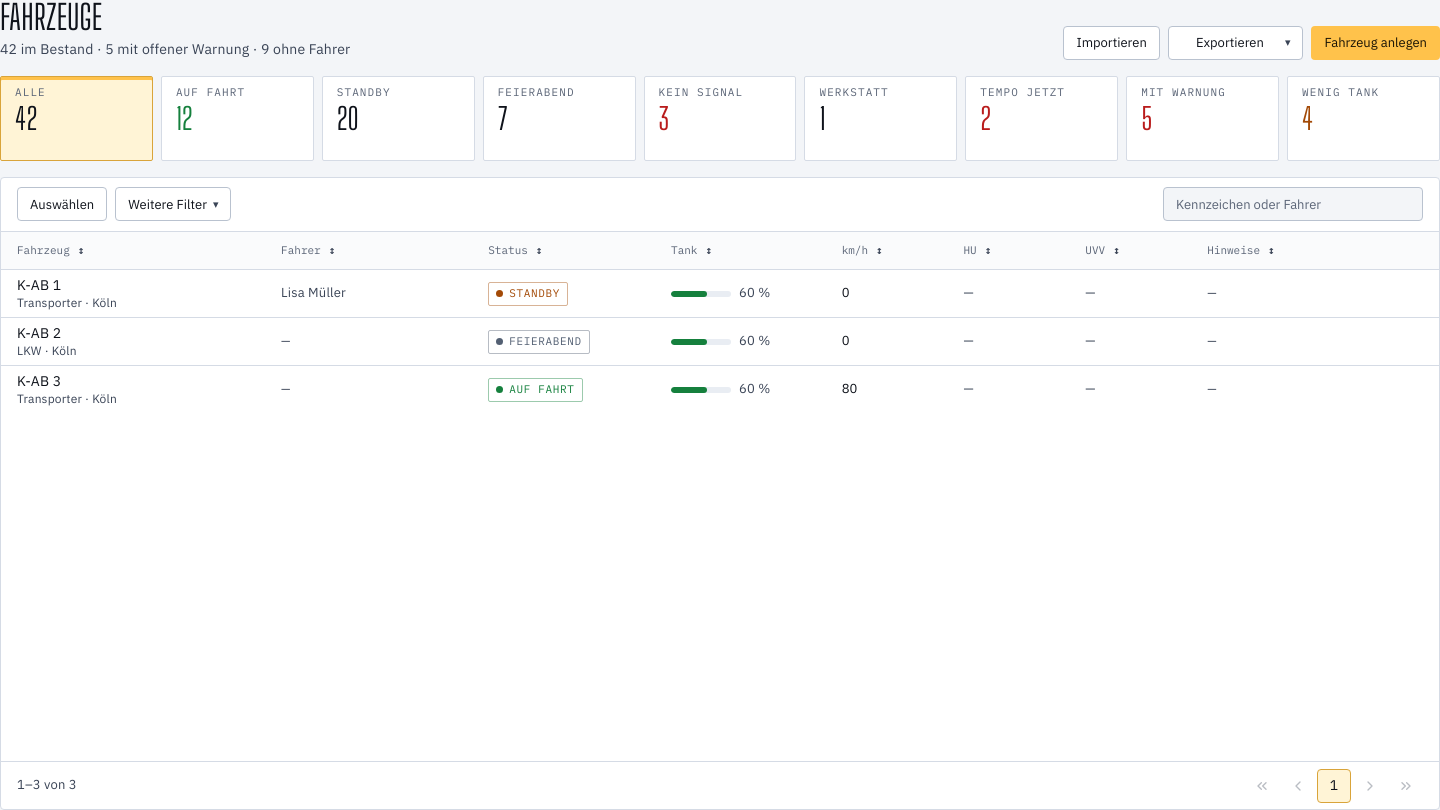
Fahrzeuge list page › confirms a created vehicle with a notice
Check: the text "K-AB 1" is shown, box [17,276,61,294]
Click the button "Fahrzeug anlegen" at (1376, 43), box [1312,26,1439,60]
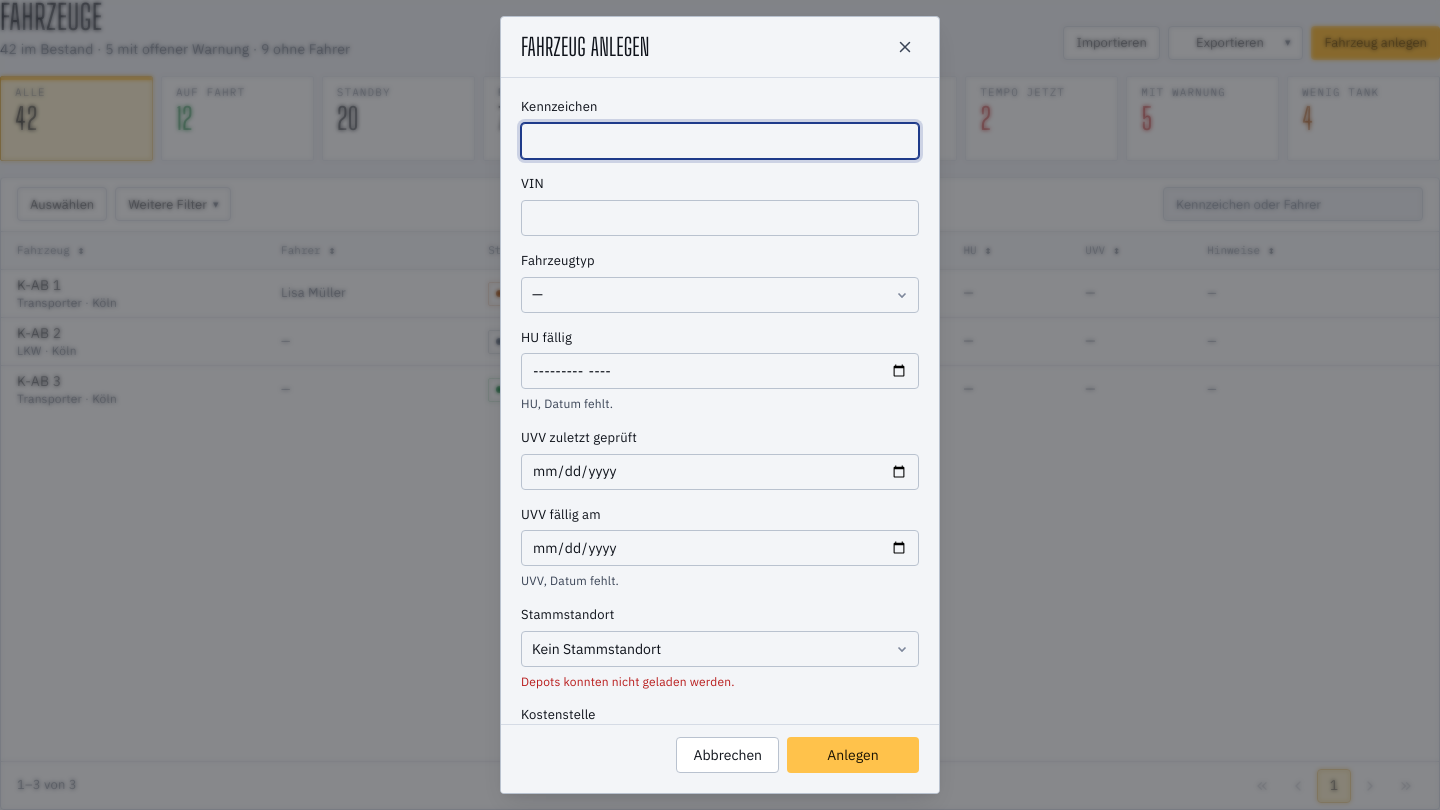
Type "QA-QA 1" into the field labelled "Kennzeichen" at (720, 141), box [521,123,919,159]
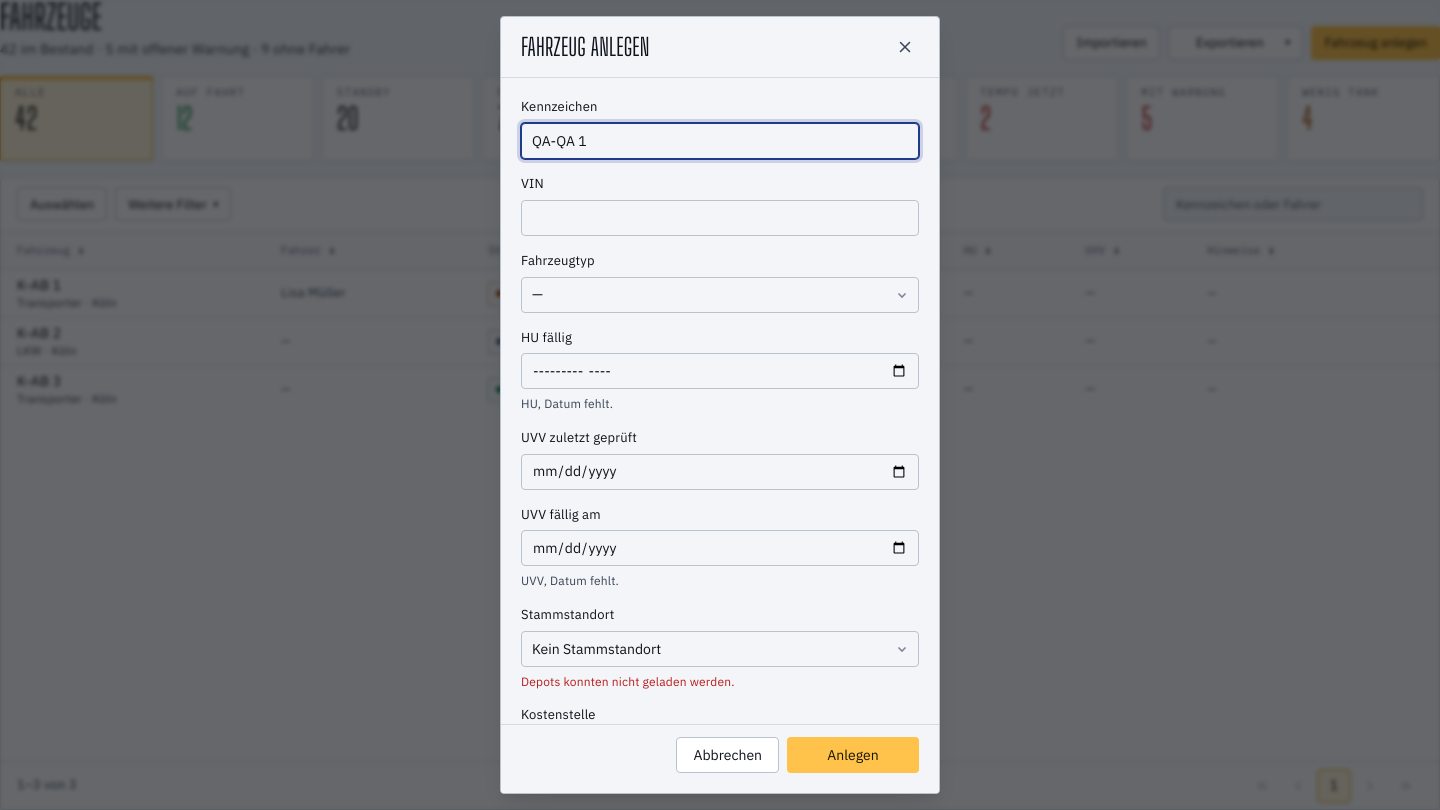
Click the button "Anlegen" at (853, 755), box [787,737,919,773]
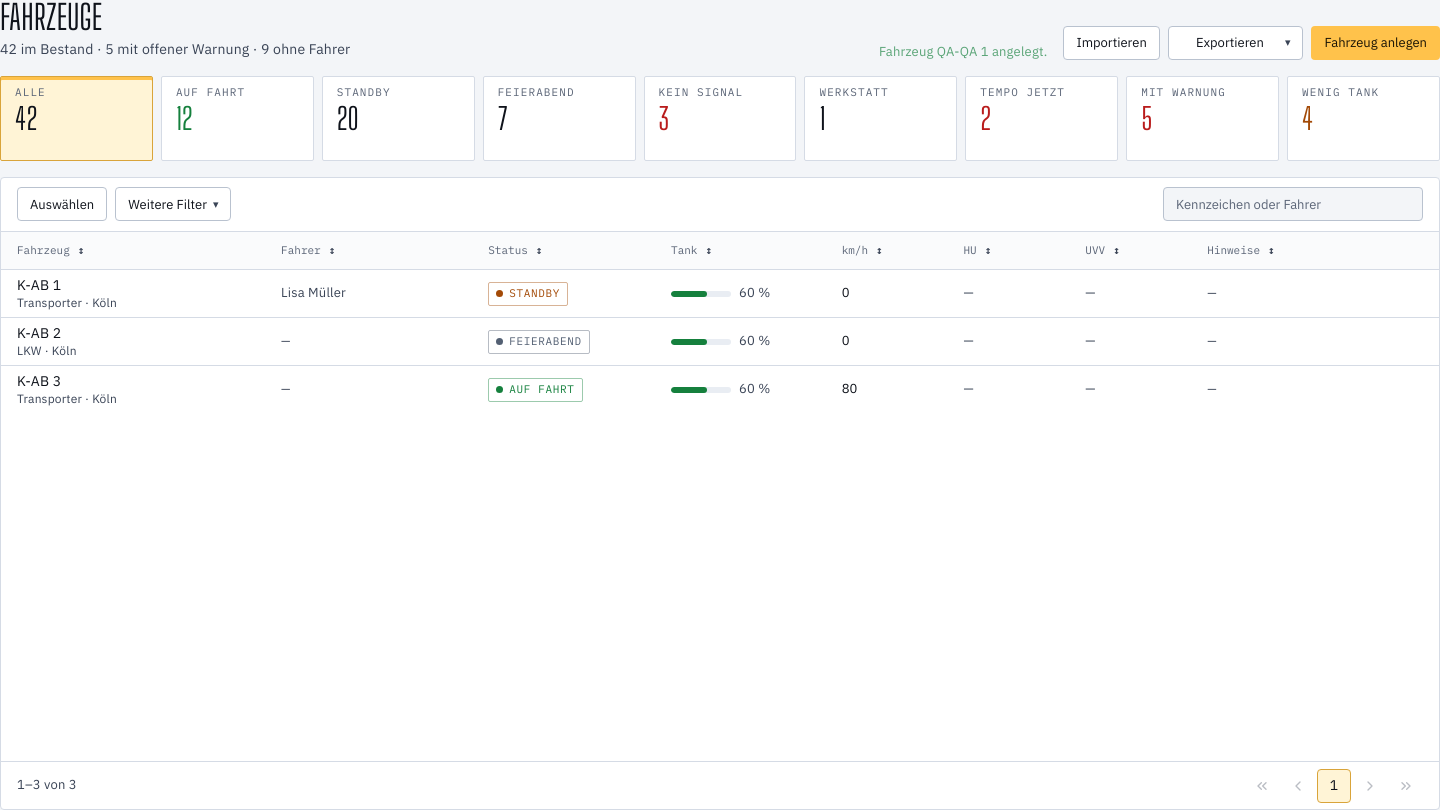
Check: the text "Fahrzeug QA-QA 1 angelegt." is shown, box [879,42,1047,59]
